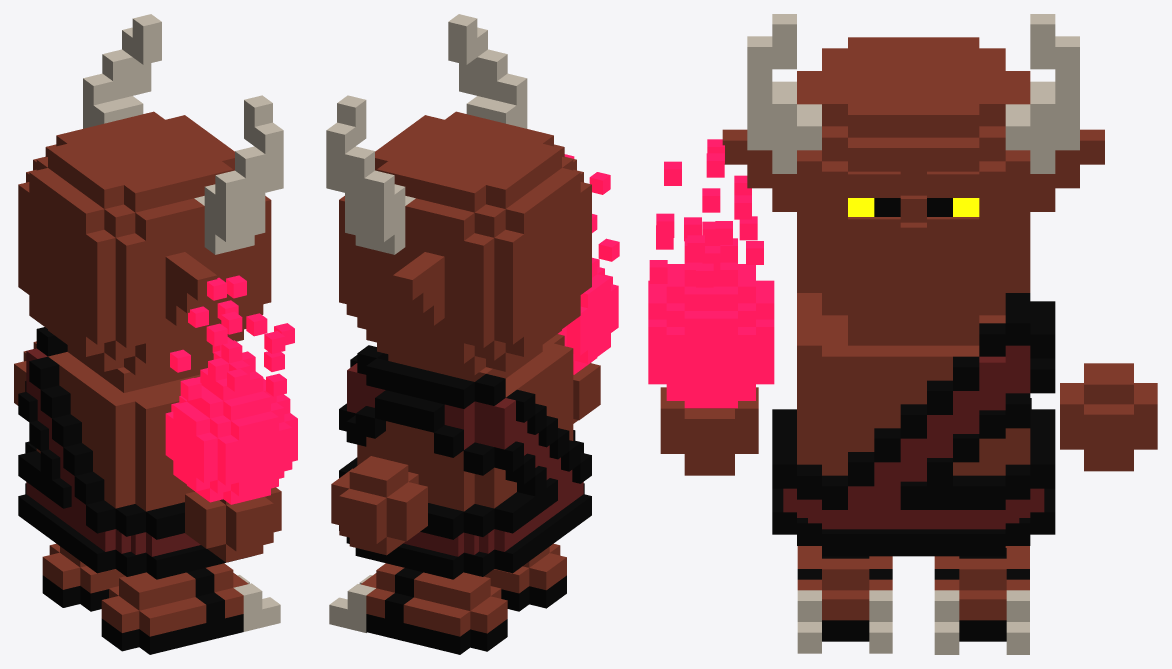
File: Ranged Demon.fbx
The picture shows the model from 3 angles, left to right: view 1: azimuth 30°, elevation 25°; view 2: azimuth 150°, elevation 25°; view 3: azimuth 270°, elevation 25°; orthographic projection. The views are drawn at different scales.
Parts seen in each view (by area): view 1: Head, Torso, Cube, FootRight, HandRight, FootLeft, HandLeft; view 2: Head, Torso, FootLeft, HandLeft, Cube, FootRight, HandRight; view 3: Head, Torso, Cube, FootLeft, FootRight, HandLeft, HandRight.
Part boxes in pixels (x1=…): Head: x1=18, y1=14, x2=283, y2=375; Torso: x1=18, y1=327, x2=251, y2=579; Cube: x1=165, y1=275, x2=297, y2=504; FootRight: x1=101, y1=563, x2=280, y2=654; HandRight: x1=185, y1=487, x2=281, y2=562; FootLeft: x1=42, y1=543, x2=125, y2=611; HandLeft: x1=14, y1=341, x2=36, y2=405; Head: x1=326, y1=14, x2=591, y2=375; Torso: x1=339, y1=334, x2=591, y2=579; FootLeft: x1=329, y1=563, x2=507, y2=654; HandLeft: x1=331, y1=456, x2=427, y2=555; Cube: x1=558, y1=154, x2=619, y2=374; FootRight: x1=484, y1=543, x2=566, y2=611; HandRight: x1=573, y1=363, x2=600, y2=423; Head: x1=722, y1=14, x2=1104, y2=326; Torso: x1=772, y1=293, x2=1055, y2=556; Cube: x1=648, y1=139, x2=774, y2=408; FootLeft: x1=934, y1=546, x2=1029, y2=654; FootRight: x1=797, y1=546, x2=892, y2=653; HandLeft: x1=1060, y1=363, x2=1157, y2=471; HandRight: x1=660, y1=387, x2=758, y2=475.
Size of the model in its own units: 275 by 744 by 554.
